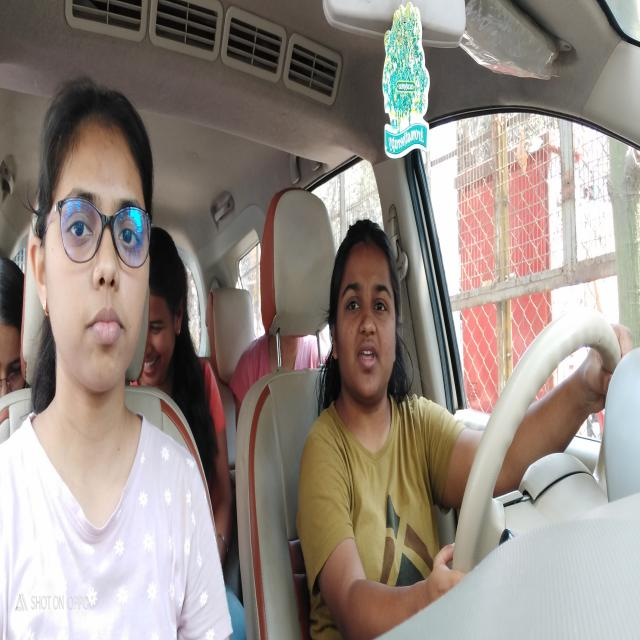person: (32, 78, 158, 398), (323, 204, 408, 425), (145, 213, 186, 380), (1, 234, 32, 412)
